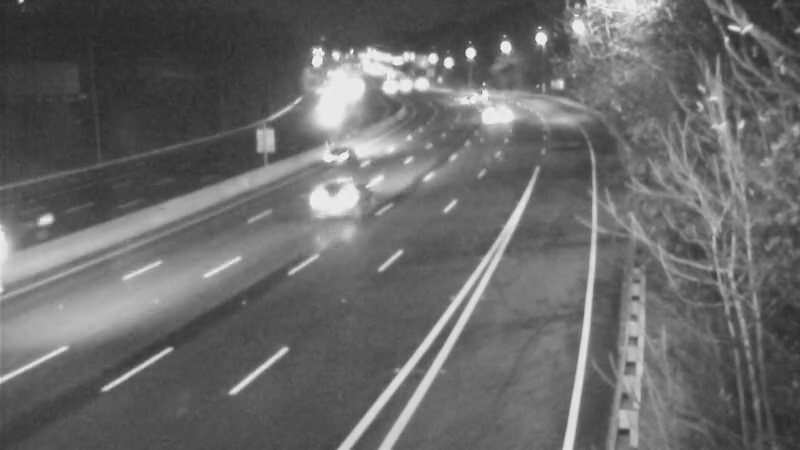vehicle: (310, 113, 390, 193), (286, 153, 366, 233), (1, 191, 73, 271), (431, 76, 481, 126), (465, 87, 515, 137)
